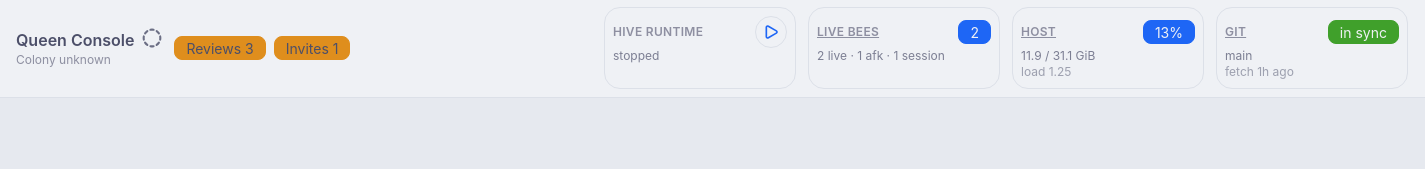
Test: Header › surfaces runtime failures as an error alert and toast
The image size is (1425, 169).
Click the button named "Start hive runtime" at (771, 32), box [755, 16, 787, 48]
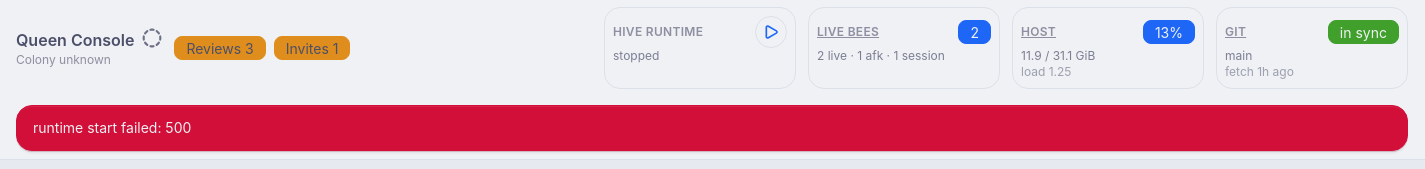
Result: the message reads "runtime start failed: 500" at [33, 119, 191, 136]
